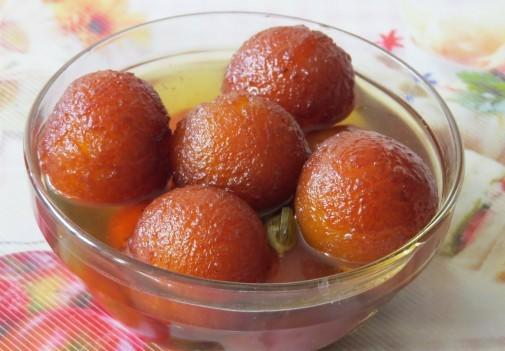GulabJamun: (132, 186, 272, 328), (296, 129, 440, 265), (37, 70, 170, 206), (169, 95, 309, 204), (222, 26, 355, 132)
